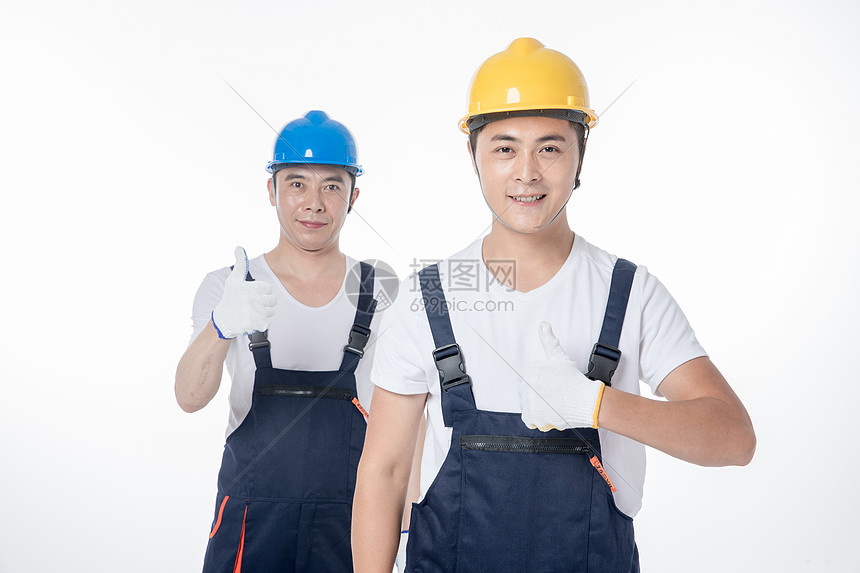safetyhat: (408, 33, 730, 457), (131, 81, 402, 470)
